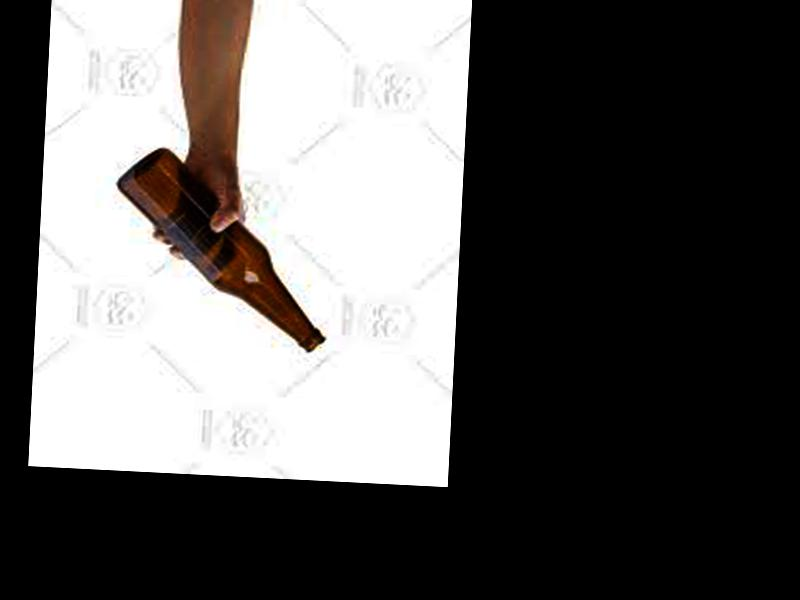Beer: (107, 146, 332, 352)
